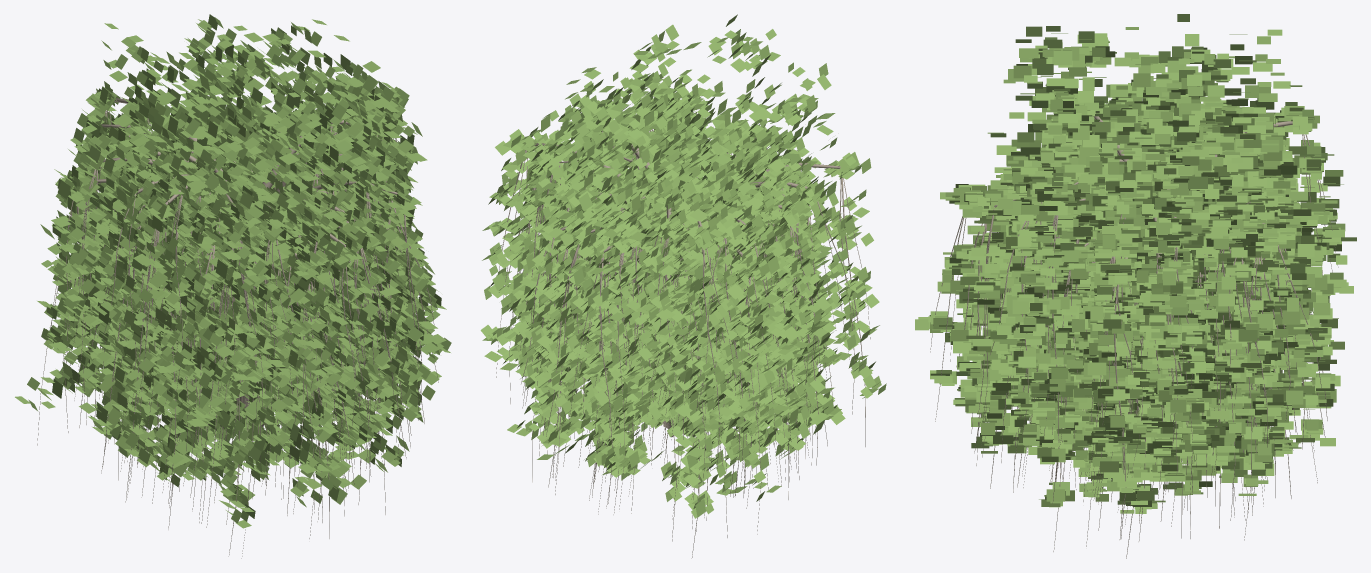
The model's file is willow.glb.
3 views of the same model, side by side, from view 1: azimuth 30°, elevation 25°; view 2: azimuth 150°, elevation 25°; view 3: azimuth 270°, elevation 25° (orthographic). The views are drawn at different scales.
Visible parts, largest first — view 1: Willow_3, Willow_2, Willow_4, Willow_5, Willow_1; view 2: Willow_3, Willow_4, Willow_2, Willow_5, Willow_1; view 3: Willow_3, Willow_2, Willow_1, Willow_4, Willow_5.
Boxes of the visible parts, x1,y1,x2,y2 form: Willow_3: (59, 37, 435, 546); Willow_2: (15, 27, 451, 558); Willow_4: (53, 14, 400, 529); Willow_5: (79, 39, 423, 513); Willow_1: (41, 29, 446, 527); Willow_3: (480, 55, 865, 514); Willow_4: (531, 14, 886, 499); Willow_2: (507, 62, 851, 558); Willow_5: (489, 29, 841, 541); Willow_1: (498, 24, 828, 496); Willow_3: (1003, 14, 1356, 539); Willow_2: (966, 31, 1337, 551); Willow_1: (956, 68, 1323, 558); Willow_4: (982, 29, 1344, 546); Willow_5: (915, 33, 1336, 524).
Size of the model in its own units: 4.46 by 5.69 by 4.8.
